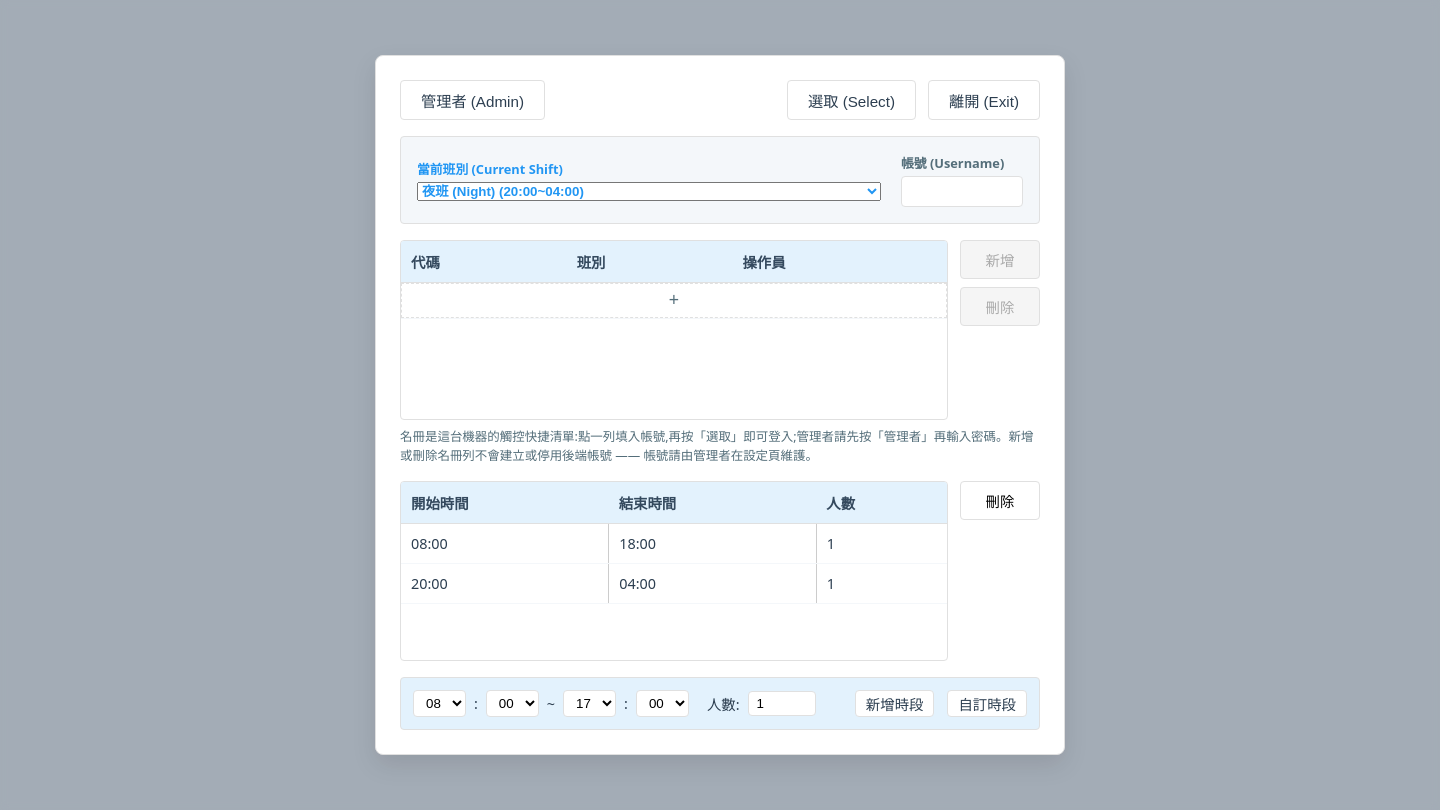
Test case: S12 名冊的新增與刪除 › 填齊代碼與操作員後新增,該列進入名冊與表格
Click the button named "新增一列": click(674, 301) [401,283,947,318]
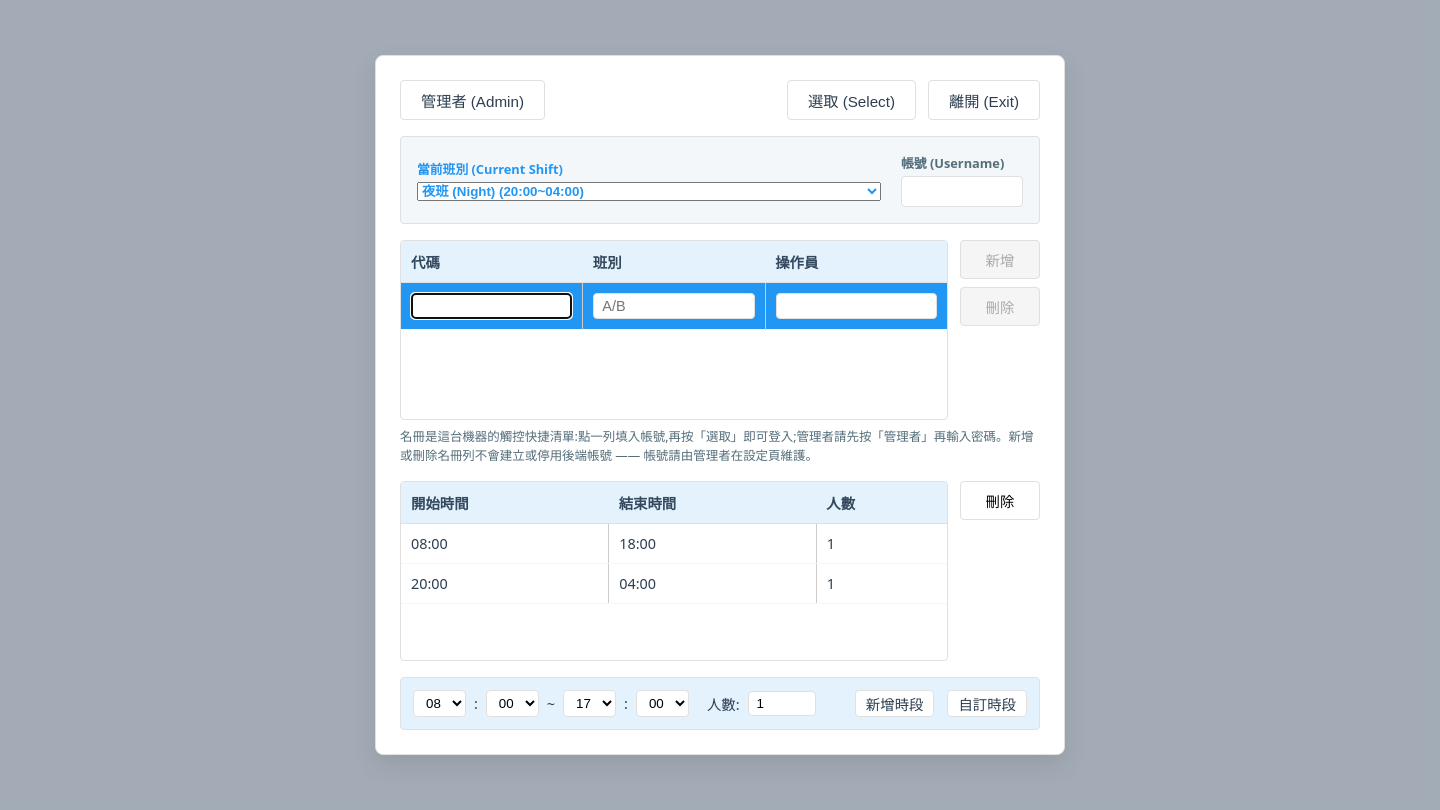
In the field named "代碼": (492, 306) [411,293,572,319], type "OP7"
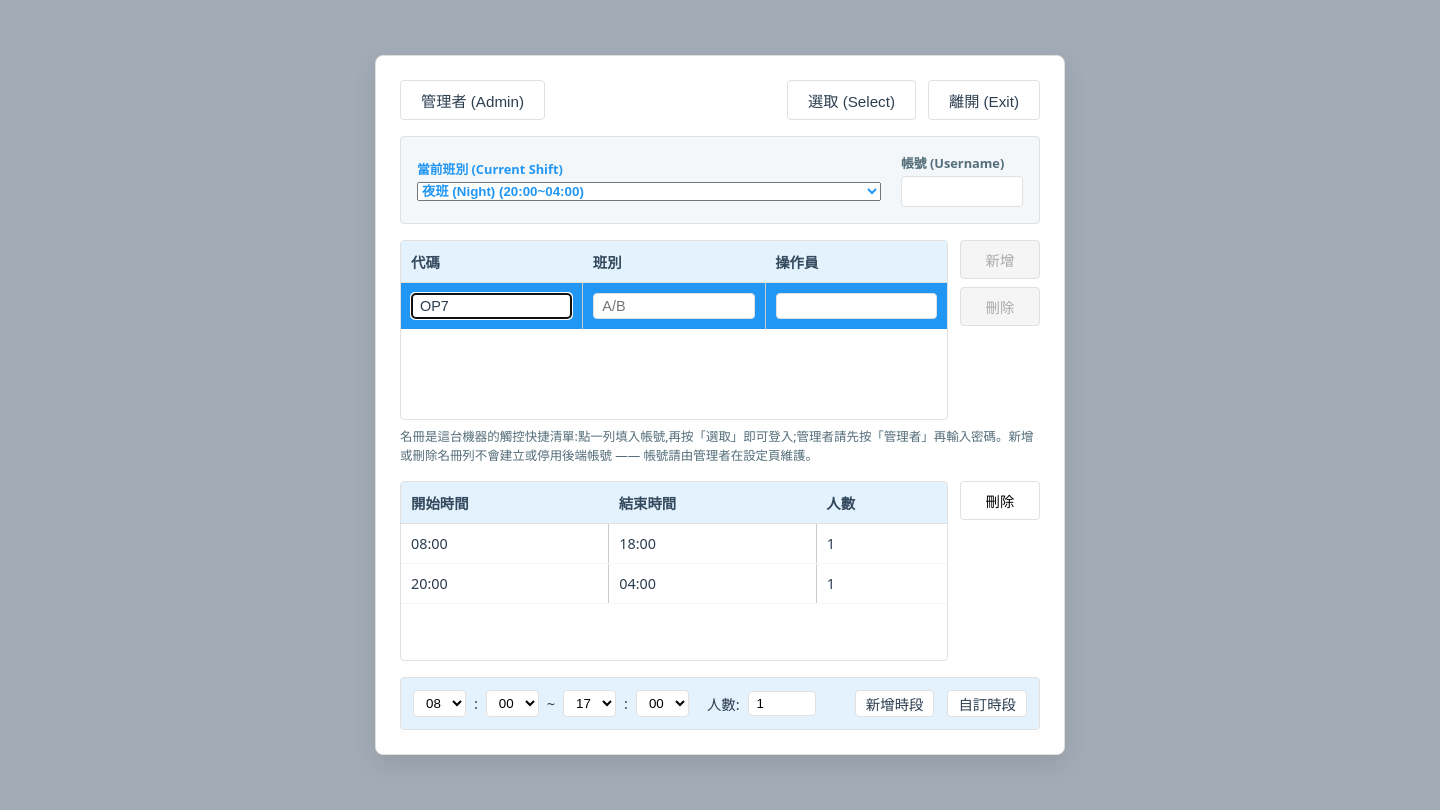
In the field named "班別": (674, 306) [593,293,755,319], type "a"
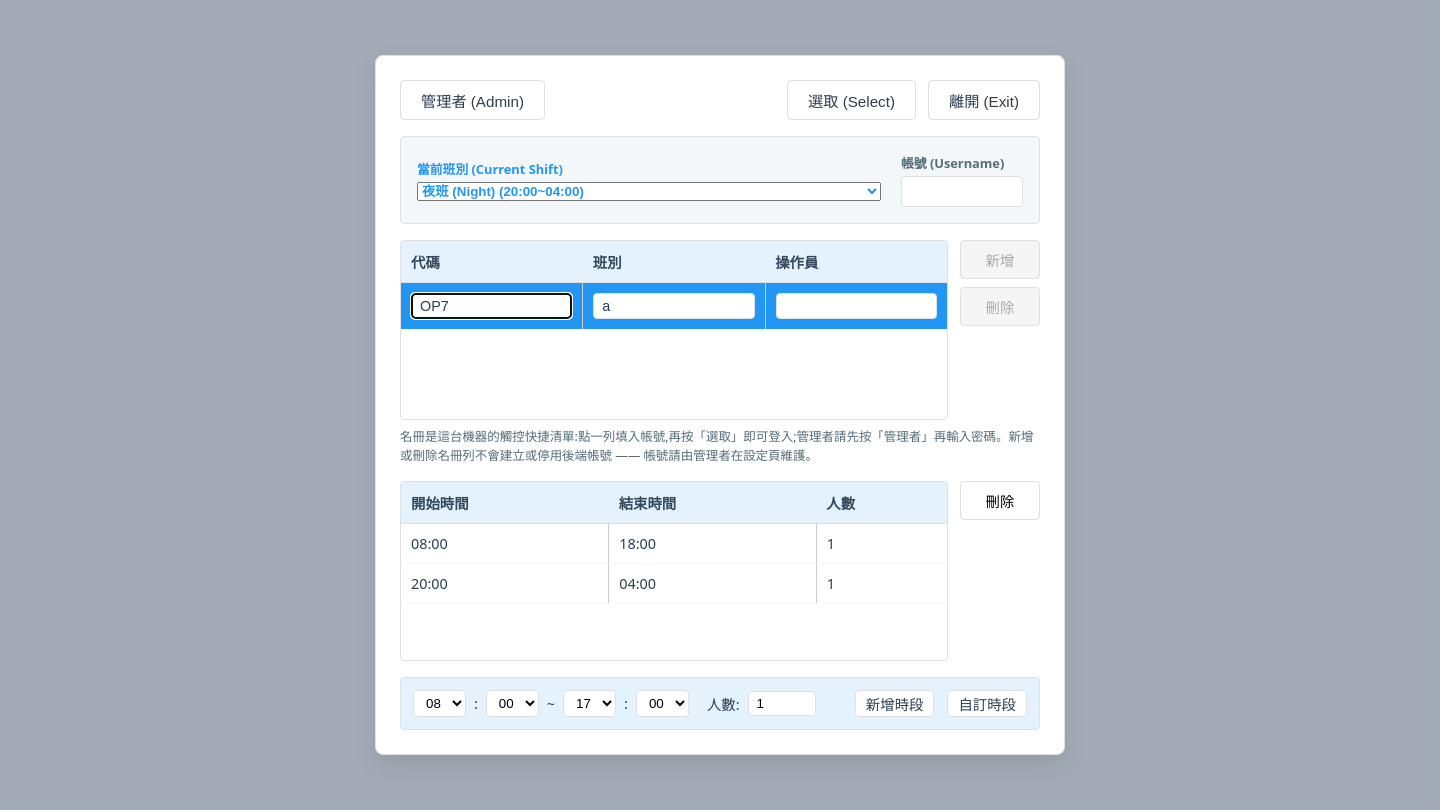
In the field named "操作員": (856, 306) [776,293,937,319], type "張三"
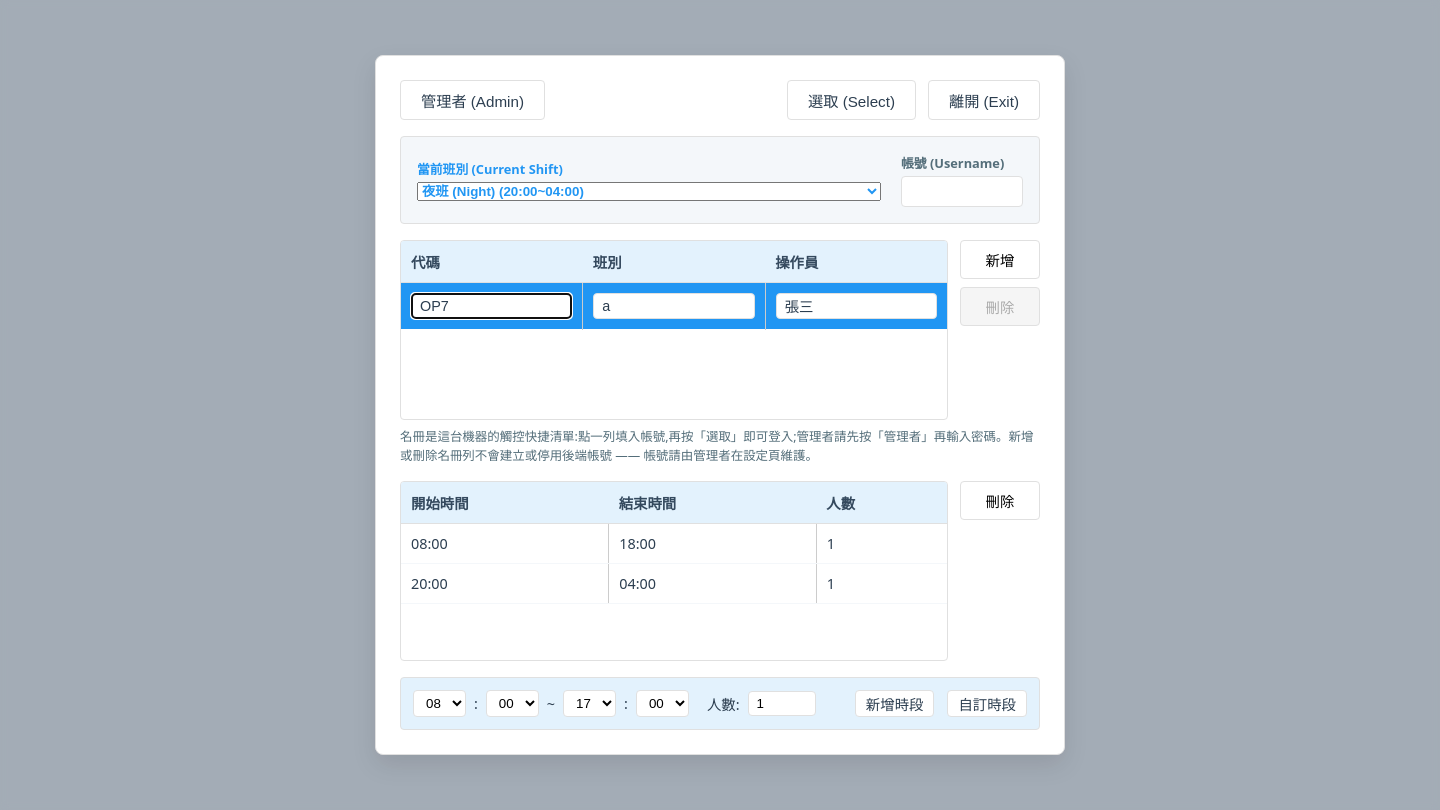
Click the button "新增": click(1000, 259) [960,240,1040,279]
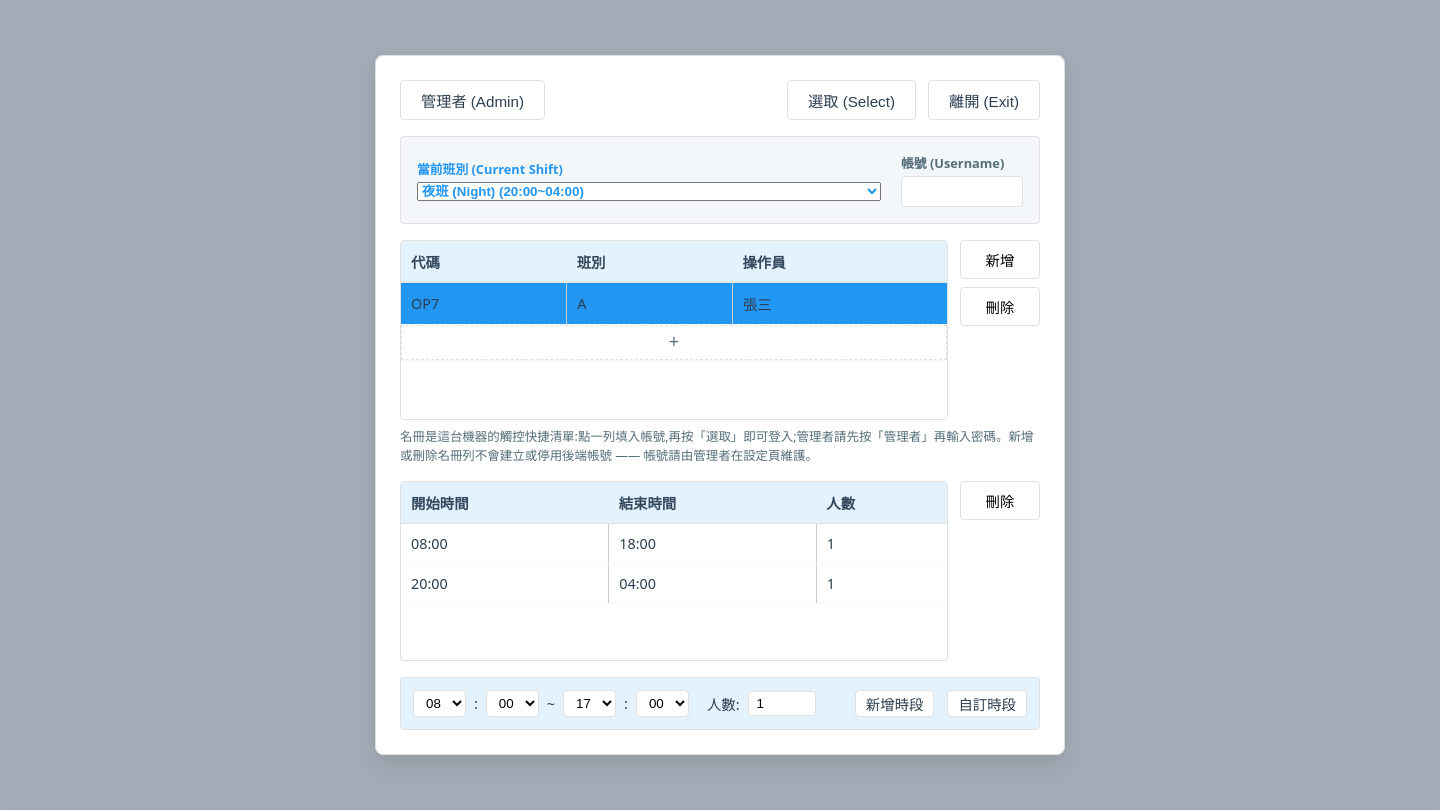
Expected: the text "張三" is shown, [732,282,947,324]
